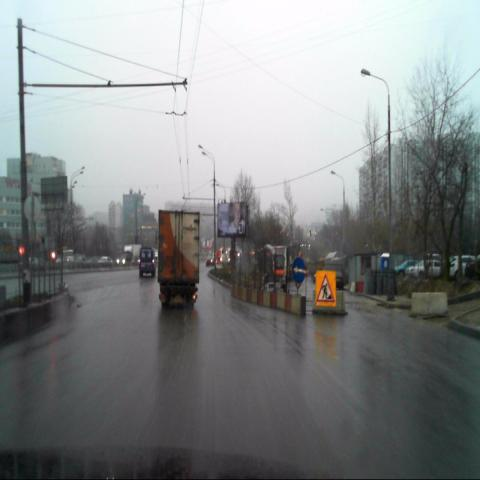1_25: (316, 270, 336, 307)
4_1_2_2: (292, 257, 304, 284)
